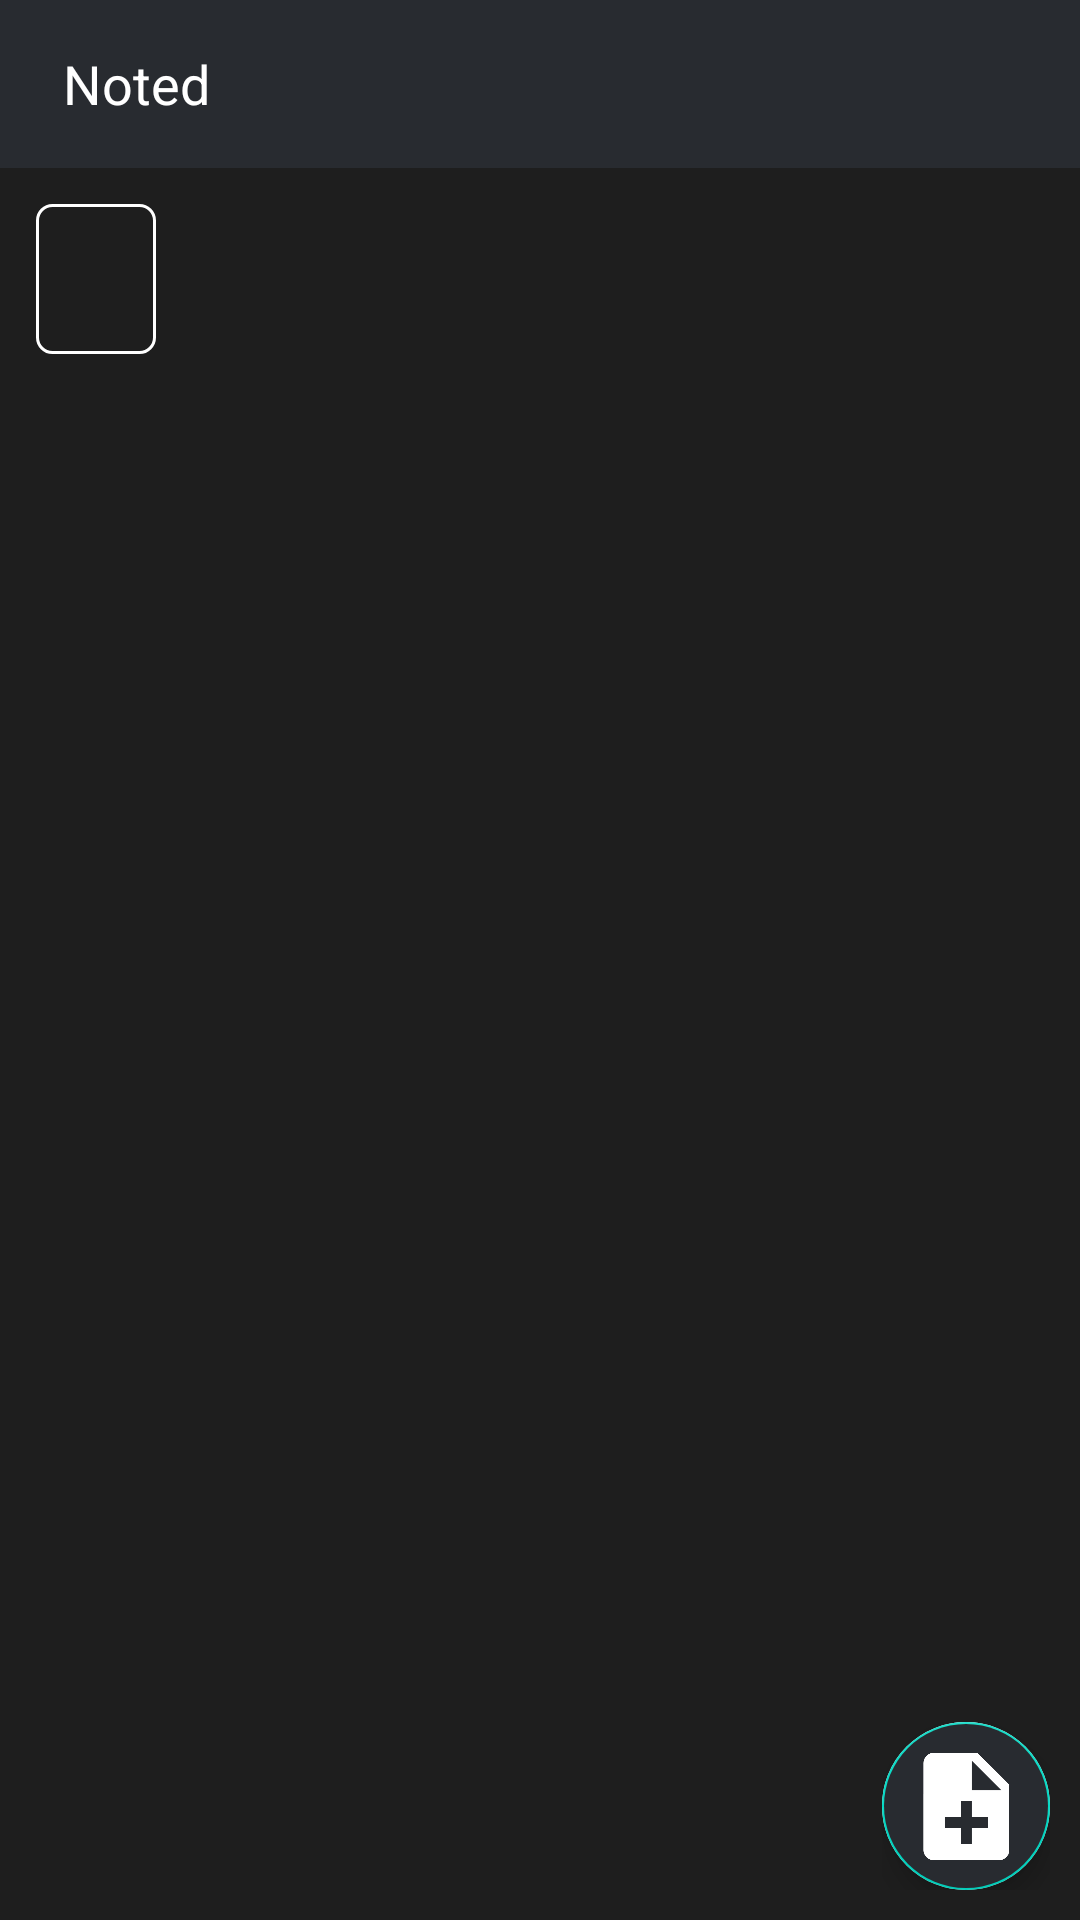

Icons on this 1080 x 1920 Android screen, each with its box as (x1, y1, x2, y2):
note: (882, 1722, 1050, 1890)
